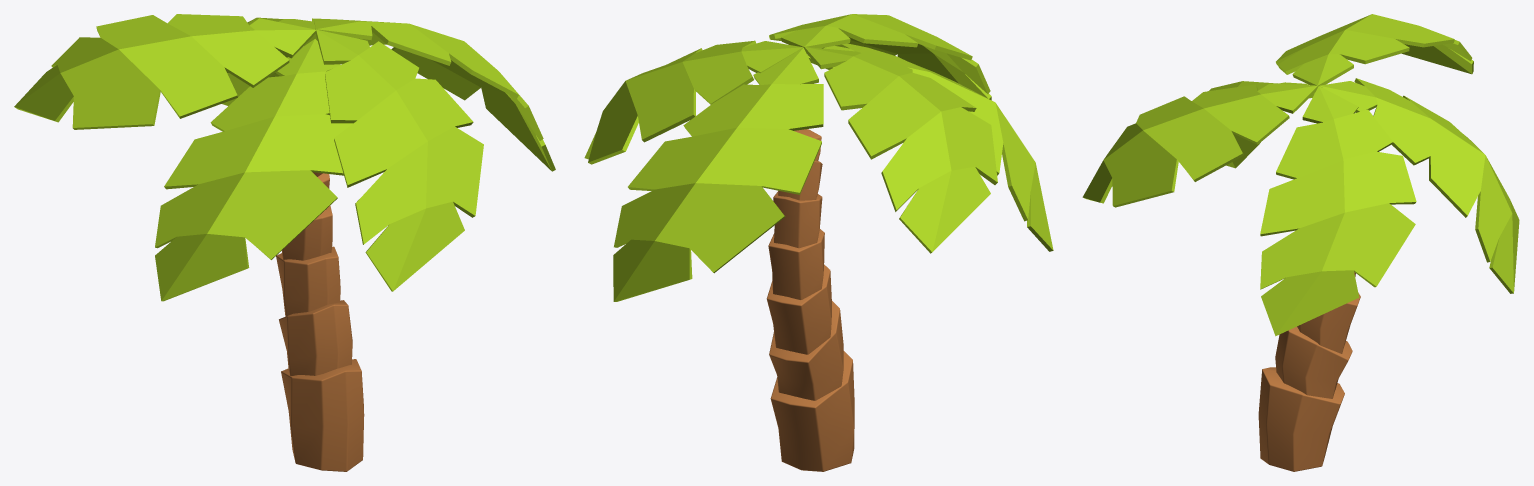
The model's file is P_Palm_Tree.fbx.
3 renders of one model, left to right at view 1: azimuth 30°, elevation 25°; view 2: azimuth 150°, elevation 25°; view 3: azimuth 270°, elevation 25°, orthographic. The views are drawn at different scales.
Parts seen in each view (by area): view 1: leave.003; view 2: leave.003; view 3: leave.003.
Boxes of the visible parts, bbox=[...] form: leave.003: bbox=[14, 14, 555, 471]; leave.003: bbox=[584, 14, 1053, 471]; leave.003: bbox=[1082, 14, 1519, 471].
Bounding box in the file's own units: 204 × 190 × 197.
